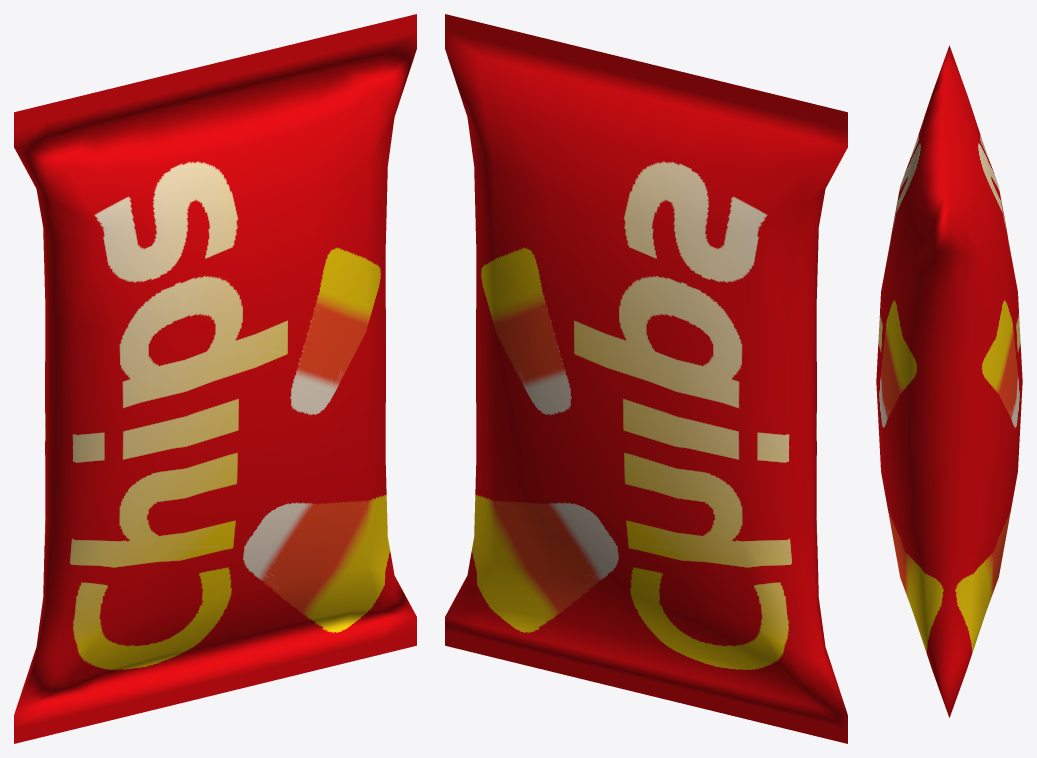
Rendered from Chips.fbx.
3 views of the same model, side by side, from view 1: azimuth 30°, elevation 25°; view 2: azimuth 150°, elevation 25°; view 3: azimuth 270°, elevation 25° (orthographic). The views are drawn at different scales.
Visible parts, largest first — view 1: Chips; view 2: Chips; view 3: Chips.
Boxes of the visible parts, box(x1,y1,x2,y2) form: Chips: box(14, 14, 416, 743); Chips: box(445, 14, 847, 743); Chips: box(876, 45, 1022, 717).
Bounding box in the file's own units: 404 × 606 × 144.
